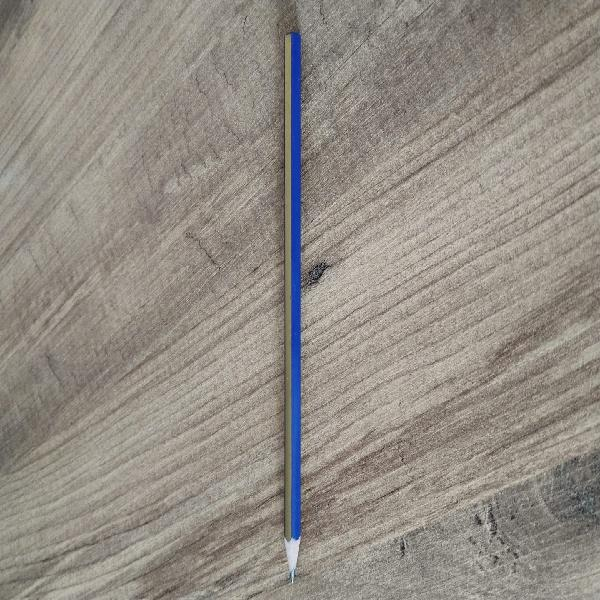pencil: (284, 33, 301, 582)
